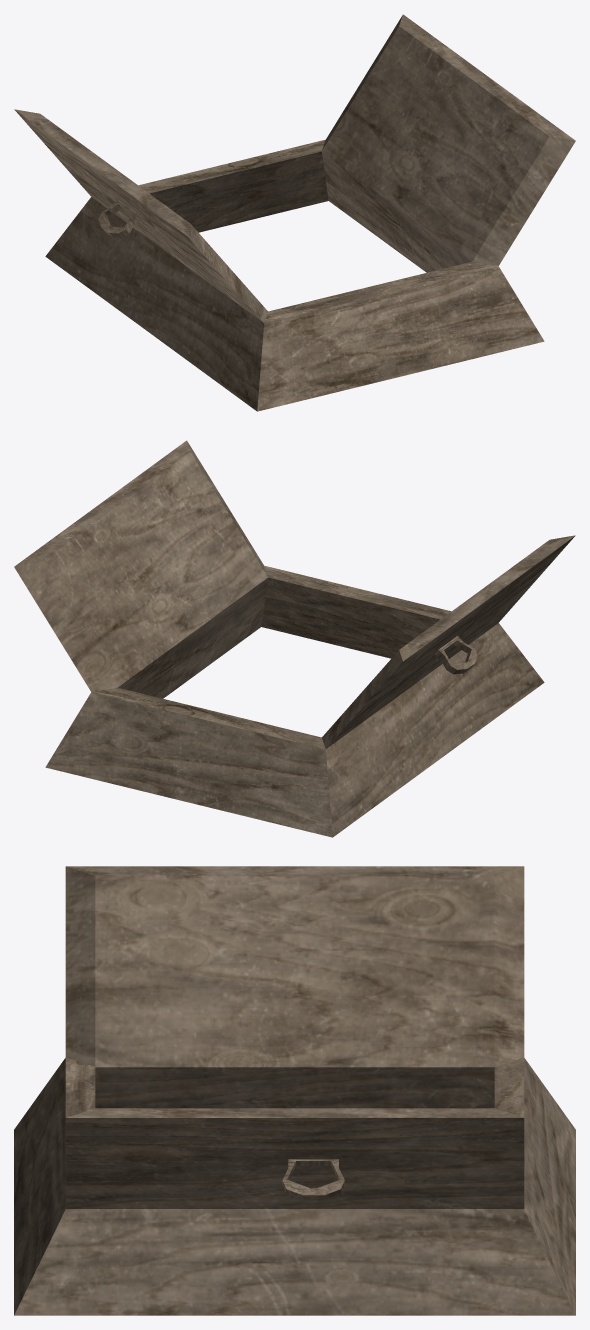
File: KanalizasyonaInis.fbx
3 views of the same model, one above another, from view 1: azimuth 30°, elevation 25°; view 2: azimuth 150°, elevation 25°; view 3: azimuth 270°, elevation 25° (orthographic). The views are drawn at different scales.
Visible parts, largest first — view 1: pasted__pasted__pCube2; view 2: pasted__pasted__pCube2; view 3: pasted__pasted__pCube2.
Boxes of the visible parts, x1,y1,x2,y2 form: pasted__pasted__pCube2: (14,14,575,411); pasted__pasted__pCube2: (14,440,575,837); pasted__pasted__pCube2: (14,866,575,1315).
Size of the model in its own units: 13.5 by 5.85 by 12.74.
